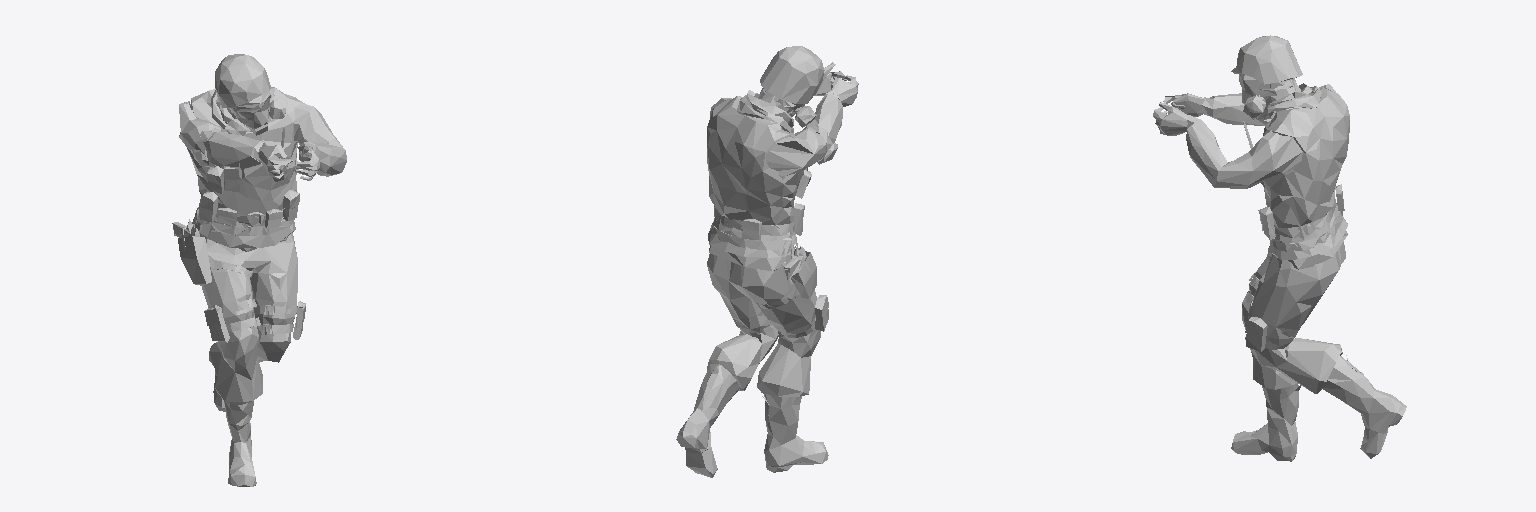
File: swat-walk-pistol_000023.obj
The picture shows the model from 3 angles: view 1: azimuth 30°, elevation 25°; view 2: azimuth 150°, elevation 25°; view 3: azimuth 270°, elevation 25°; orthographic projection.
Visible parts, largest first — view 1: Ch35; view 2: Ch35; view 3: Ch35.
Part boxes in pixels (x1,y1,x2,y2): Ch35: (172,54,346,486); Ch35: (676,46,858,477); Ch35: (1153,35,1406,461).
Size of the model in its own units: 0.5538 by 1.73 by 0.9543.